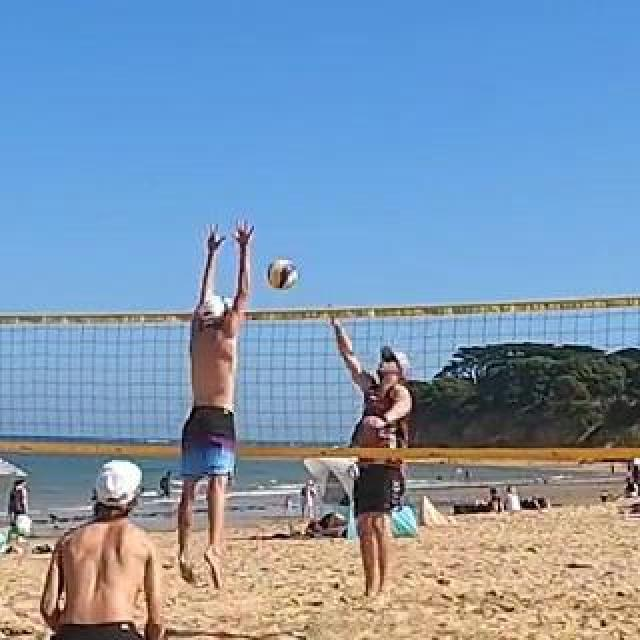volleyball: (267, 260, 297, 290)
